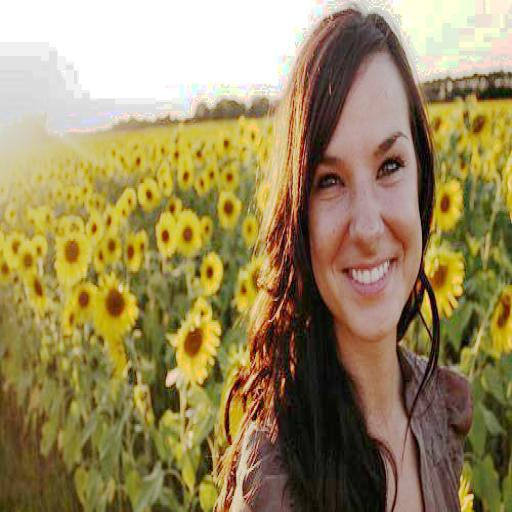sunflower: (171, 299, 222, 385), (421, 253, 463, 322), (95, 275, 138, 336), (54, 232, 92, 282), (437, 179, 463, 229), (492, 290, 512, 351), (177, 210, 203, 252), (202, 253, 222, 294), (157, 215, 178, 253), (219, 192, 241, 225)
